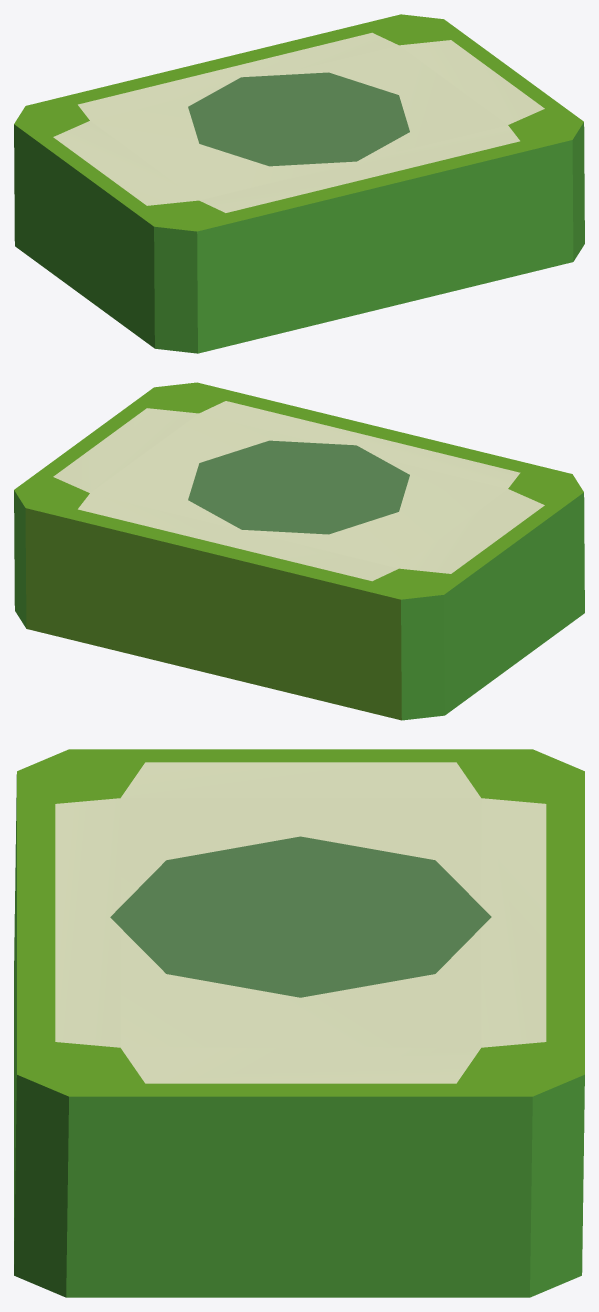
The model's file is Cash.gltf.
3 renders of one model, top to bottom at view 1: azimuth 30°, elevation 25°; view 2: azimuth 150°, elevation 25°; view 3: azimuth 270°, elevation 25°, orthographic. The views are drawn at different scales.
Visible parts, largest first — view 1: Cash; view 2: Cash; view 3: Cash.
Part boxes in pixels (bbox=[...]): Cash: bbox=[14, 14, 584, 353]; Cash: bbox=[14, 382, 584, 720]; Cash: bbox=[14, 749, 584, 1297].
Bounding box in the file's own units: 0.74 × 0.2055 × 0.514.
1 material, 1 textured.
